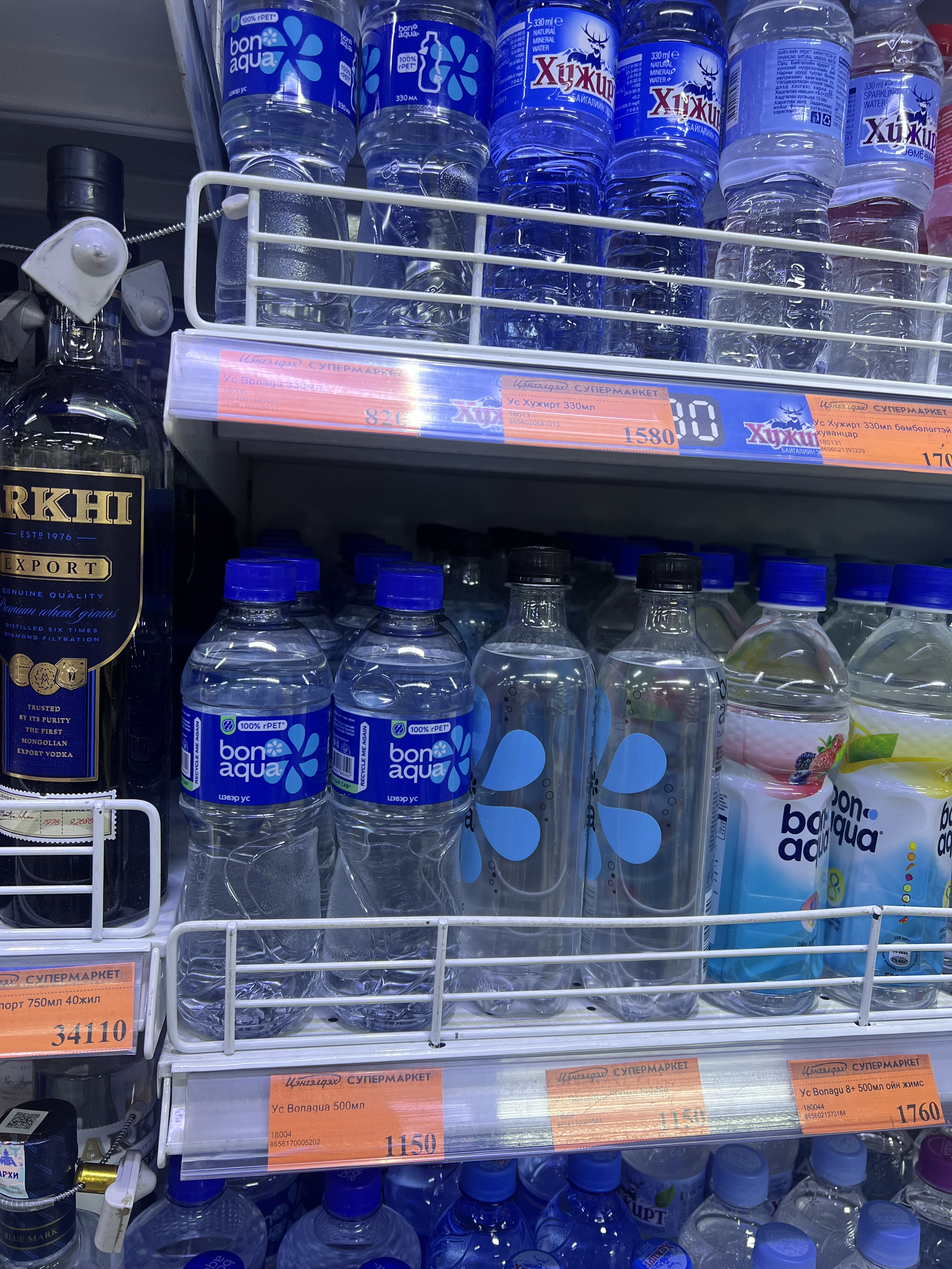bonaqua_500ml: (161, 557, 323, 1032), (321, 548, 466, 1054), (353, 0, 478, 348), (217, 0, 345, 330)
